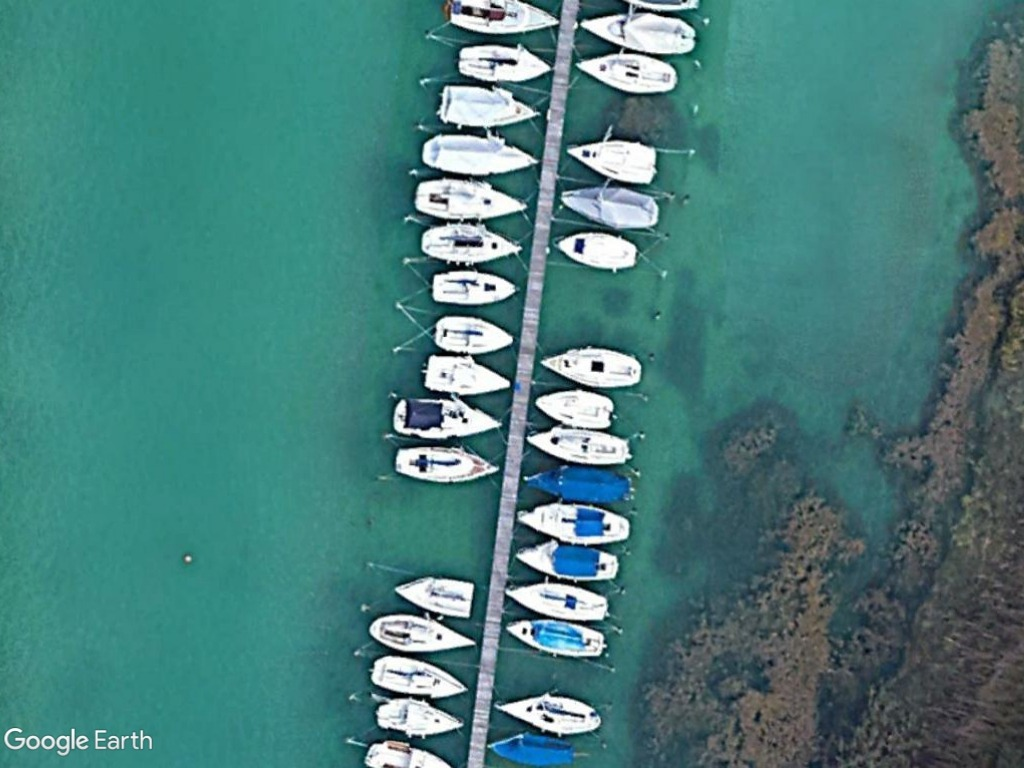boat: (512, 497, 630, 549), (408, 173, 529, 223), (502, 608, 610, 664), (415, 130, 538, 179), (558, 178, 663, 234), (576, 9, 697, 57), (511, 536, 622, 588), (365, 609, 478, 659), (388, 393, 504, 441), (435, 80, 543, 131), (503, 575, 614, 624), (561, 136, 662, 189), (568, 49, 680, 96), (366, 650, 468, 701), (536, 344, 644, 392), (411, 223, 526, 267), (417, 348, 513, 400), (389, 444, 502, 488), (493, 692, 603, 736), (518, 462, 631, 504), (525, 423, 632, 467), (392, 569, 479, 622), (452, 40, 552, 85), (550, 226, 641, 275), (372, 695, 467, 740), (484, 725, 579, 768), (428, 267, 518, 308), (431, 312, 520, 353), (530, 391, 619, 432)
